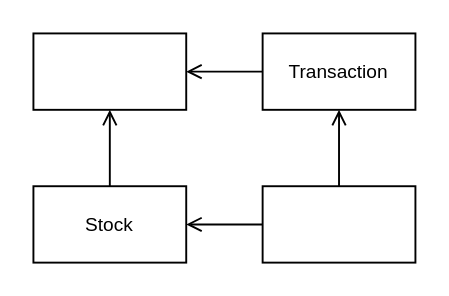
The diagram is 449 pixels wide and 296 high, and some of its shapes have lost their labels. The shapes that lost their labels are listed below. From the top down, each one's centre as x and y in pixels, then its label:
the point at 109,71: User
the point at 338,223: Trade
